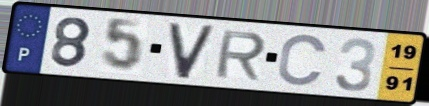3: (333, 36, 377, 93)
5: (103, 16, 147, 77)
8: (49, 15, 92, 70)
C: (275, 32, 330, 88)
R: (212, 29, 269, 82)
V: (166, 21, 219, 81)
